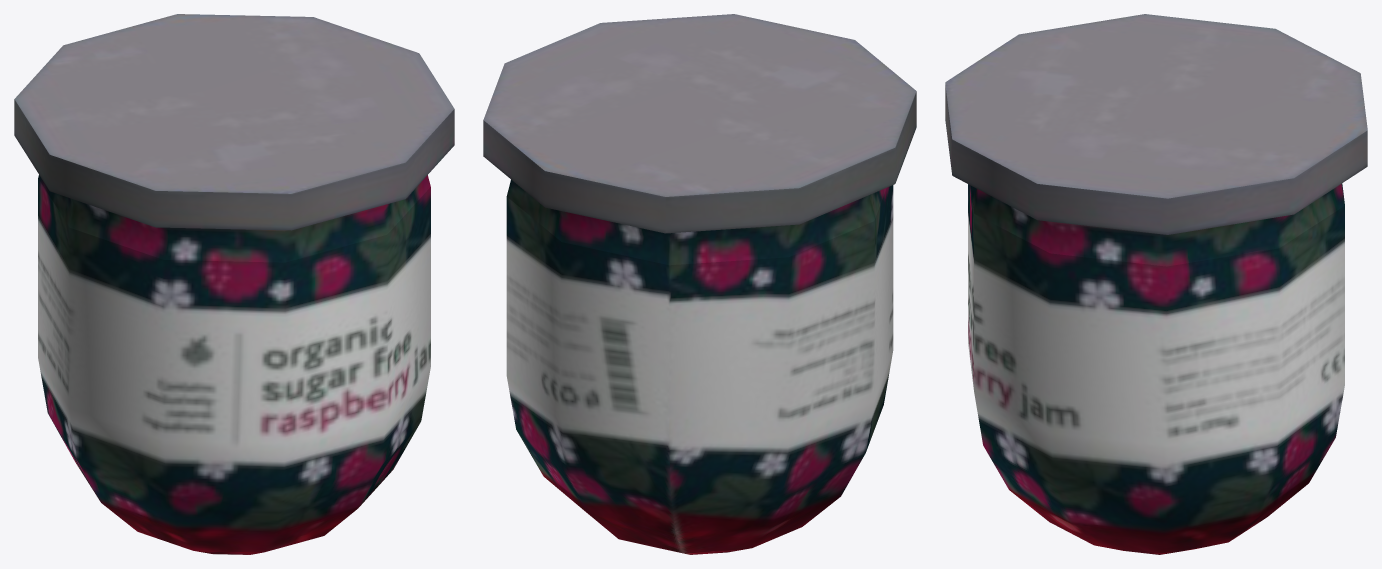
Rendered from jam.gltf.
The picture shows the model from 3 angles, left to right: view 1: azimuth 30°, elevation 25°; view 2: azimuth 150°, elevation 25°; view 3: azimuth 270°, elevation 25°; orthographic projection.
Visible parts, largest first — view 1: Jam; view 2: Jam; view 3: Jam.
Part boxes in pixels (x1,y1,x2,y2): Jam: (14, 14, 454, 554); Jam: (483, 14, 916, 554); Jam: (945, 14, 1367, 554).
Bounding box in the file's own units: 0.1185 × 0.1294 × 0.1146.
1 material, 1 textured.
